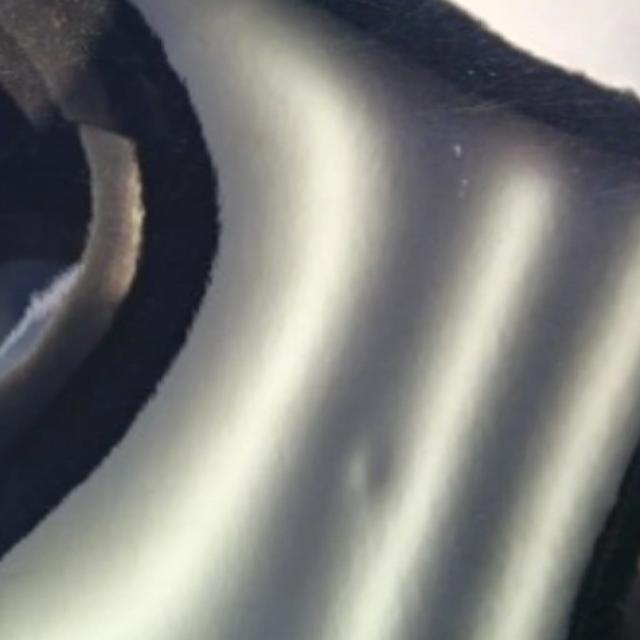dents: (340, 428, 418, 539)
